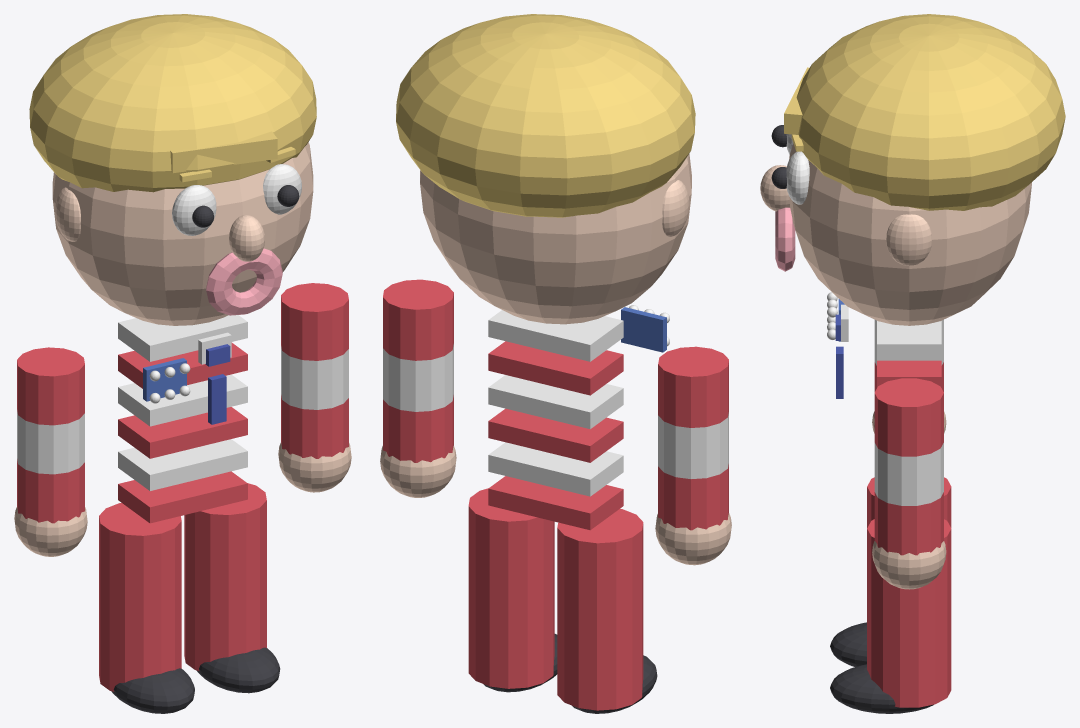
File: boss.glb
3 renders of one model, left to right at view 1: azimuth 30°, elevation 25°; view 2: azimuth 150°, elevation 25°; view 3: azimuth 270°, elevation 25°, orthographic. The views are drawn at different scales.
Parts seen in each view (by area): view 1: Head, Body, LegL, LegR, ArmL, ArmR; view 2: Head, Body, LegL, LegR, ArmR, ArmL; view 3: Head, ArmR, LegR, Body, LegL, ArmL.
Part boxes in pixels (x1,y1,x2,y2): Head: (29,14,316,325); Body: (118,315,247,523); LegL: (99,503,194,713); LegR: (184,483,280,693); ArmL: (14,347,87,556); ArmR: (278,283,351,492); Head: (396,14,695,324); Body: (488,305,669,530); LegL: (557,508,657,713); LegR: (468,488,557,692); ArmR: (380,279,456,497); ArmL: (655,346,731,565); Head: (760,14,1065,325); ArmR: (872,378,946,589); LegR: (830,519,951,713); Body: (827,292,941,398); LegL: (830,477,951,666); ArmL: (872,319,946,433).
Size of the model in its own units: 1.54 by 2.9 by 1.23.
